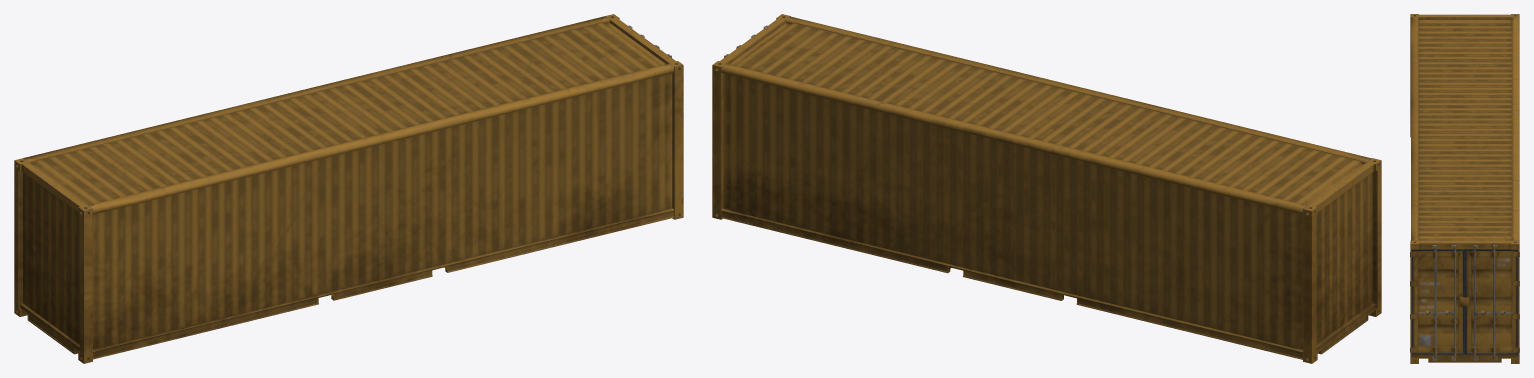
File: container_40_red.glb
The picture shows the model from 3 angles, left to right: view 1: azimuth 30°, elevation 25°; view 2: azimuth 150°, elevation 25°; view 3: azimuth 270°, elevation 25°; orthographic projection. The views are drawn at different scales.
Visible parts, largest first — view 1: container_40_red; view 2: container_40_red; view 3: container_40_red.
Boxes of the visible parts, box(x1,y1,x2,y2) form: container_40_red: box(14, 14, 683, 363); container_40_red: box(712, 14, 1381, 363); container_40_red: box(1410, 14, 1519, 363).
Bounding box in the file's own units: 12.19 × 2.95 × 2.45.
Materials: 1 (1 with a texture image).
